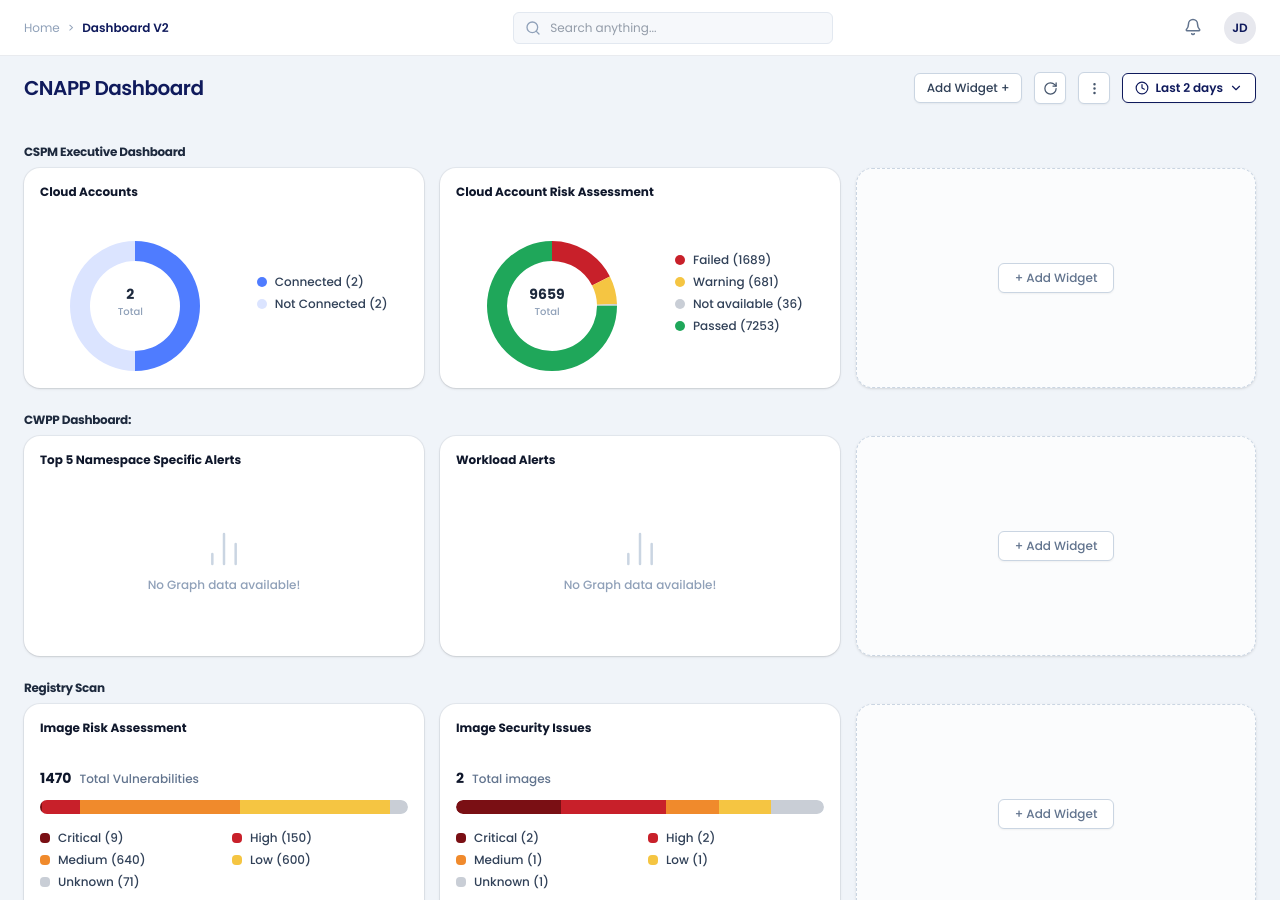
Drawer Search (Phase 8a) › shows no-match message when query matches nothing
The width and height of the screenshot is (1280, 900).
Step 1. Click the button "Add Widget +" → (968, 88), box left=914, top=73, right=1022, bottom=103
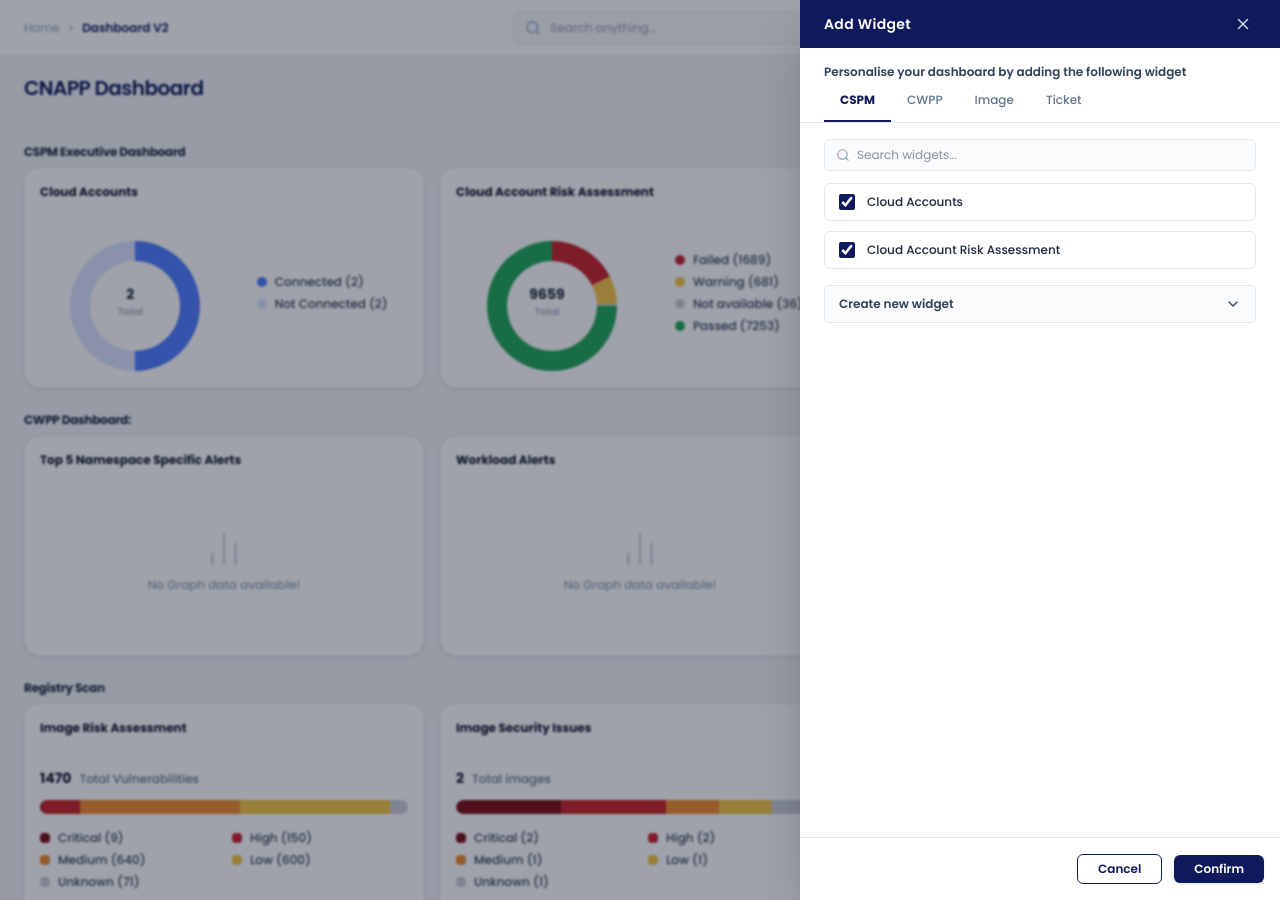
Step 2. Type "nonexistent-term" into the search field labelled "Search widgets" → (1040, 155), box left=824, top=139, right=1256, bottom=171
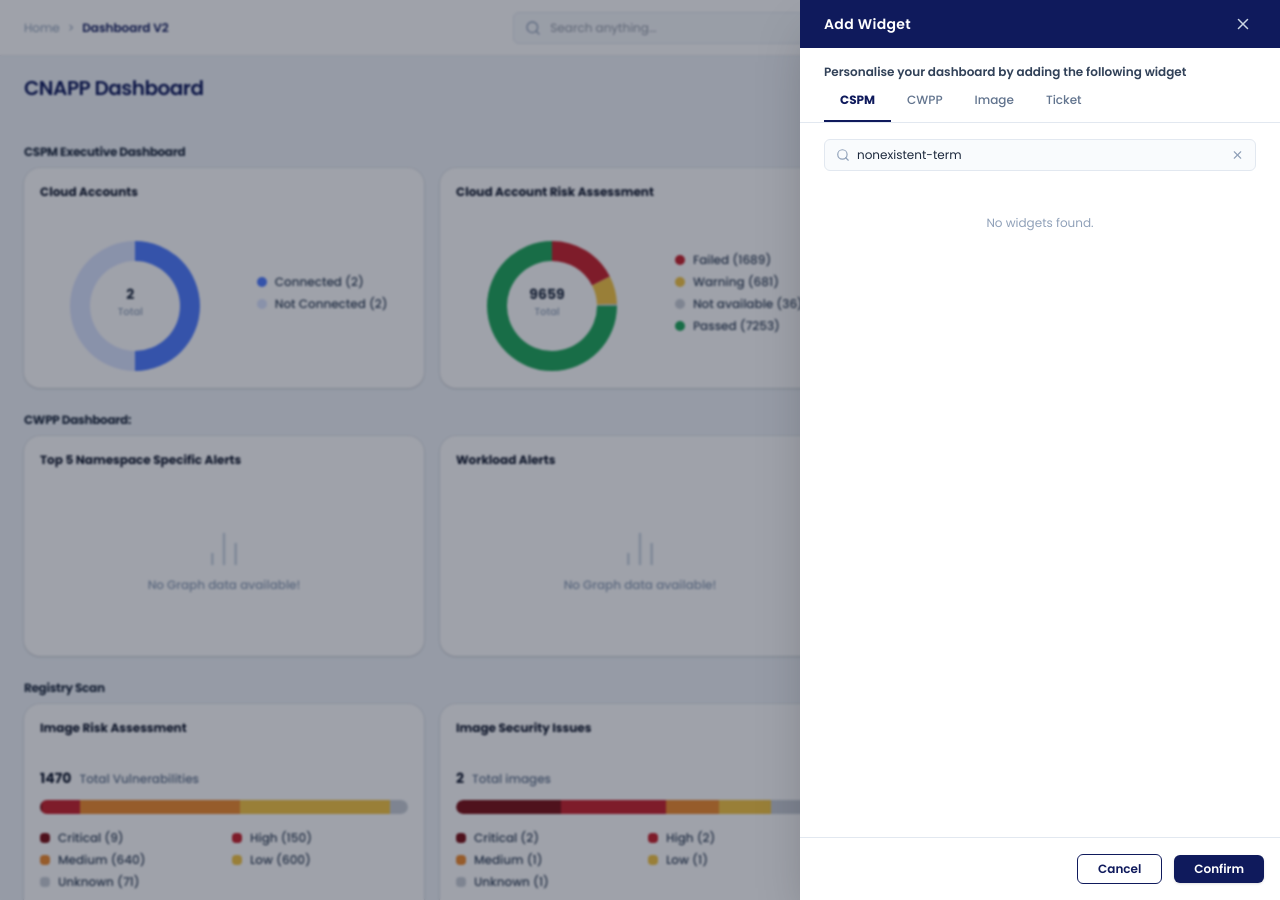
expect the text "No widgets found." is shown: met, box left=986, top=214, right=1094, bottom=231
